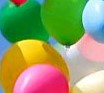Balloon: (40, 1, 84, 46), (1, 1, 47, 41), (11, 63, 68, 93)
